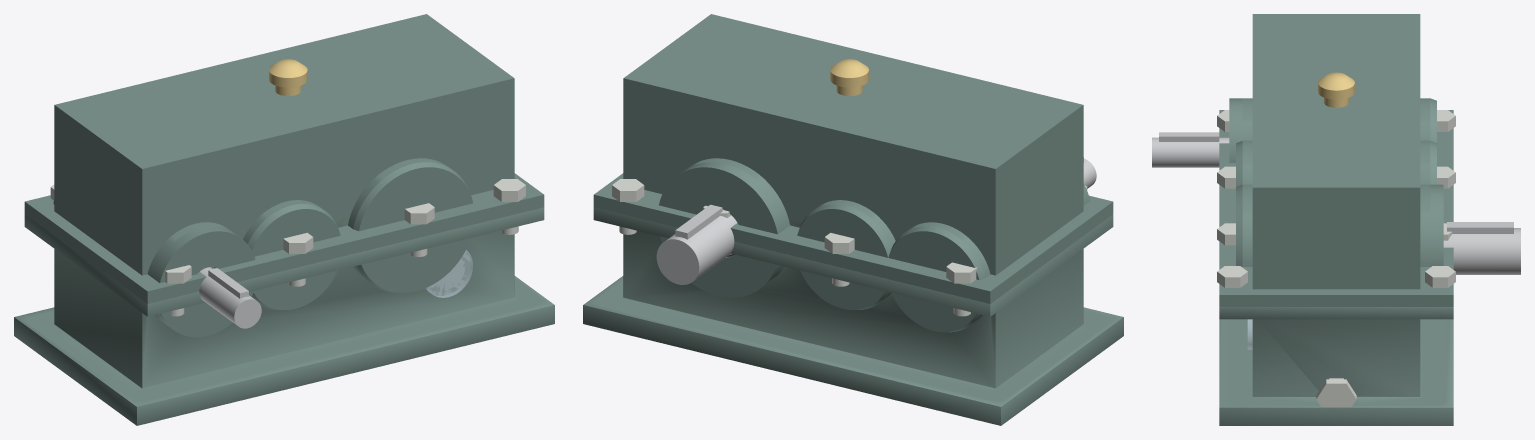
3 renders of one model, left to right at view 1: azimuth 30°, elevation 25°; view 2: azimuth 150°, elevation 25°; view 3: azimuth 270°, elevation 25°, orthographic. The views are drawn at different scales.
Visible parts, largest first — view 1: Housing cover, Housing base, Output blind cap, Input through cap, Intermediate cap, front, Input shaft, Breather, Oil sight glass, Cover bolt 7, Cover bolt 5, Cover bolt 3, Input key (+1 smaller); view 2: Housing cover, Housing base, Output through cap, Input blind cap, Intermediate cap, rear, Output shaft, Breather, Cover bolt 8, Output key, Cover bolt 2, Cover bolt 4; view 3: Housing cover, Housing base, Output shaft, Input shaft, Output through cap, Breather, Drain plug, Output key, Input through cap, Input key, Cover bolt 7, Cover bolt 8 (+5 smaller).
Boxes of the visible parts, x1,y1,x2,y2 form: Housing cover: (24,14,544,303); Housing base: (14,207,554,425); Output blind cap: (353,162,472,292); Input through cap: (153,226,255,337); Intermediate cap, front: (248,204,340,309); Input shaft: (199,267,261,328); Breather: (269,59,307,95); Oil sight glass: (426,250,472,297); Cover bolt 7: (493,179,525,234); Cover bolt 5: (404,203,434,256); Cover bolt 3: (283,232,313,286); Input key: (208,268,248,298); Housing cover: (593,14,1113,303); Housing base: (583,207,1123,425); Output through cap: (659,162,784,297); Input blind cap: (888,226,984,332); Intermediate cap, rear: (797,204,891,309); Output shaft: (656,215,737,284); Breather: (830,59,868,95); Cover bolt 8: (612,179,644,234); Output key: (675,204,722,239); Cover bolt 2: (946,262,977,316); Cover bolt 4: (824,232,854,286); Housing cover: (1219,14,1453,306); Housing base: (1219,307,1453,425); Output shaft: (1443,228,1520,274); Input shaft: (1152,137,1229,167); Output through cap: (1430,184,1443,266); Breather: (1318,72,1354,107); Drain plug: (1316,378,1356,406); Output key: (1447,222,1513,233); Input through cap: (1229,98,1242,162); Input key: (1159,132,1219,141); Cover bolt 7: (1217,266,1247,287); Cover bolt 8: (1425,266,1455,287).
Bounding box in the file's own units: 0.275 × 0.168 × 0.22.
